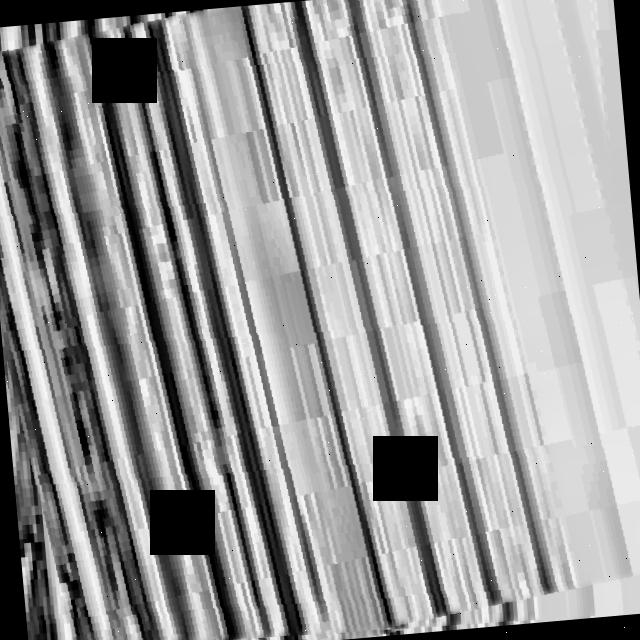bottle: (0, 0, 640, 640)
